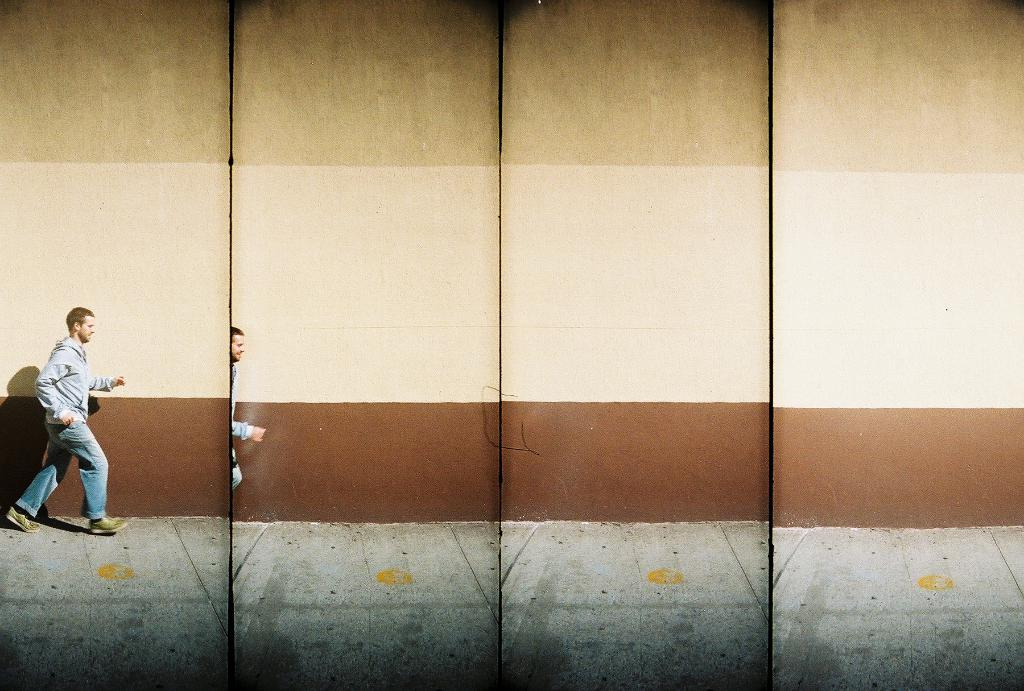Footwear: (4, 505, 44, 536), (84, 510, 129, 535)
